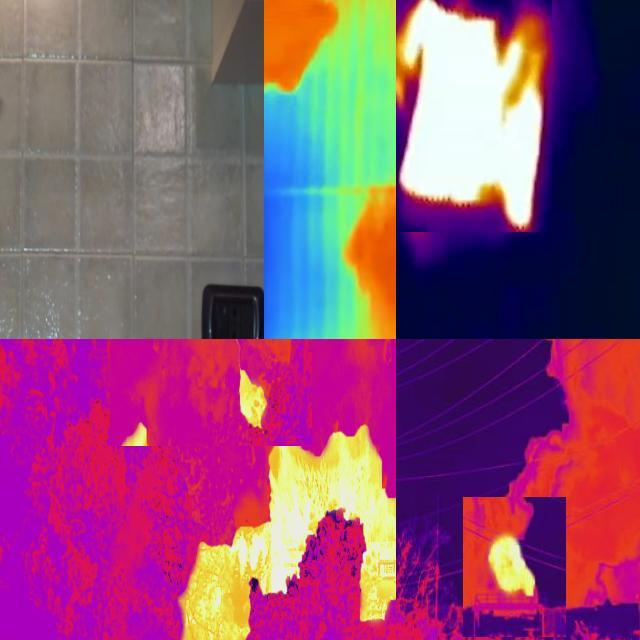fire: (182, 350, 398, 640), (397, 1, 552, 232), (475, 516, 551, 609), (120, 423, 152, 449)
